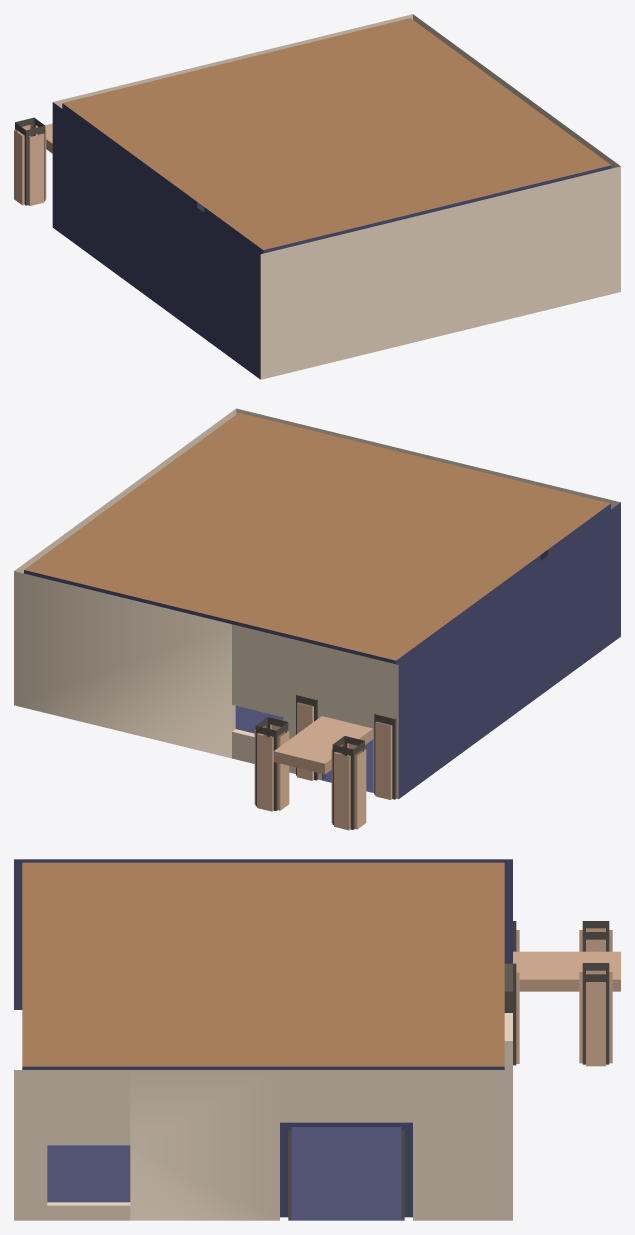
File: large_chamber.dae
3 views of the same model, one above another, from view 1: azimuth 30°, elevation 25°; view 2: azimuth 150°, elevation 25°; view 3: azimuth 270°, elevation 25° (orthographic). The views are drawn at different scales.
Parts seen in each view (by area): view 1: $dummy_node (×5); view 2: $dummy_node (×6); view 3: $dummy_node (×7).
Part boxes in pixels (x1,y1,x2,y2): $dummy_node (×5): (14,14,620,379); $dummy_node (×6): (14,408,620,830); $dummy_node (×7): (14,859,620,1220).
Bounding box in the file's own units: 30 × 10 × 36.5.
